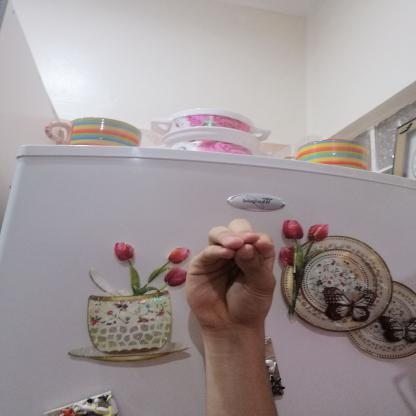HA: (167, 212, 301, 346)
